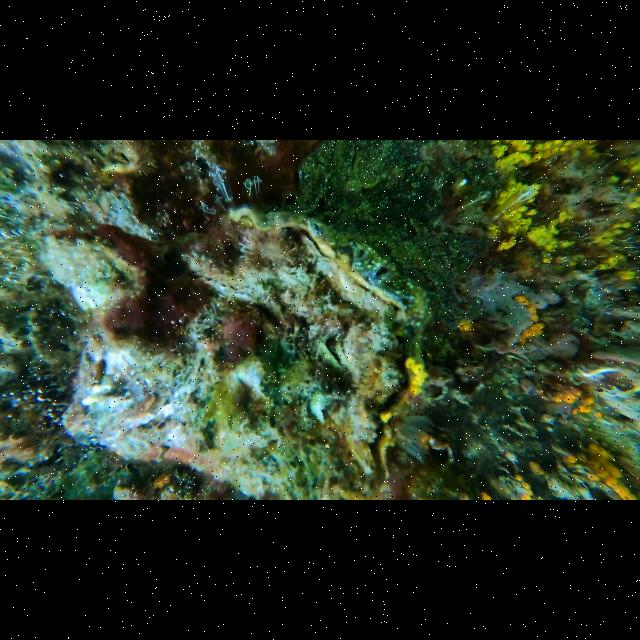Oyster-Open: (63, 206, 420, 499)
